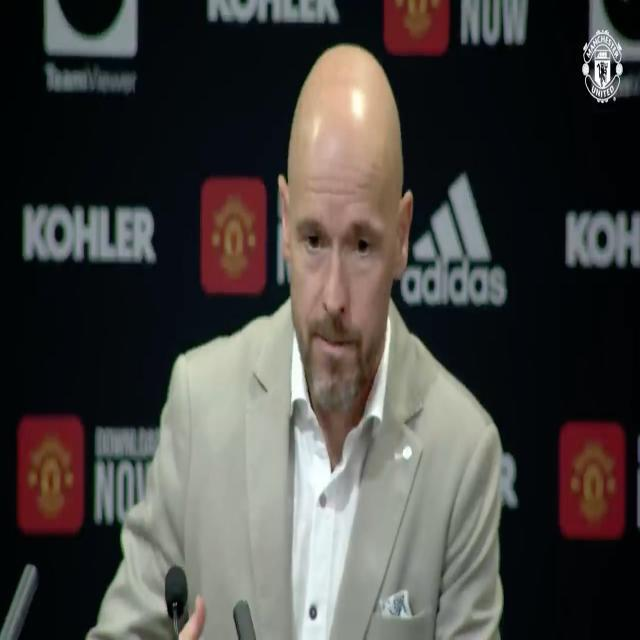Adidas: (400, 168, 508, 307)
Kohler: (22, 206, 154, 263)
TeamViewer: (44, 1, 137, 92)
